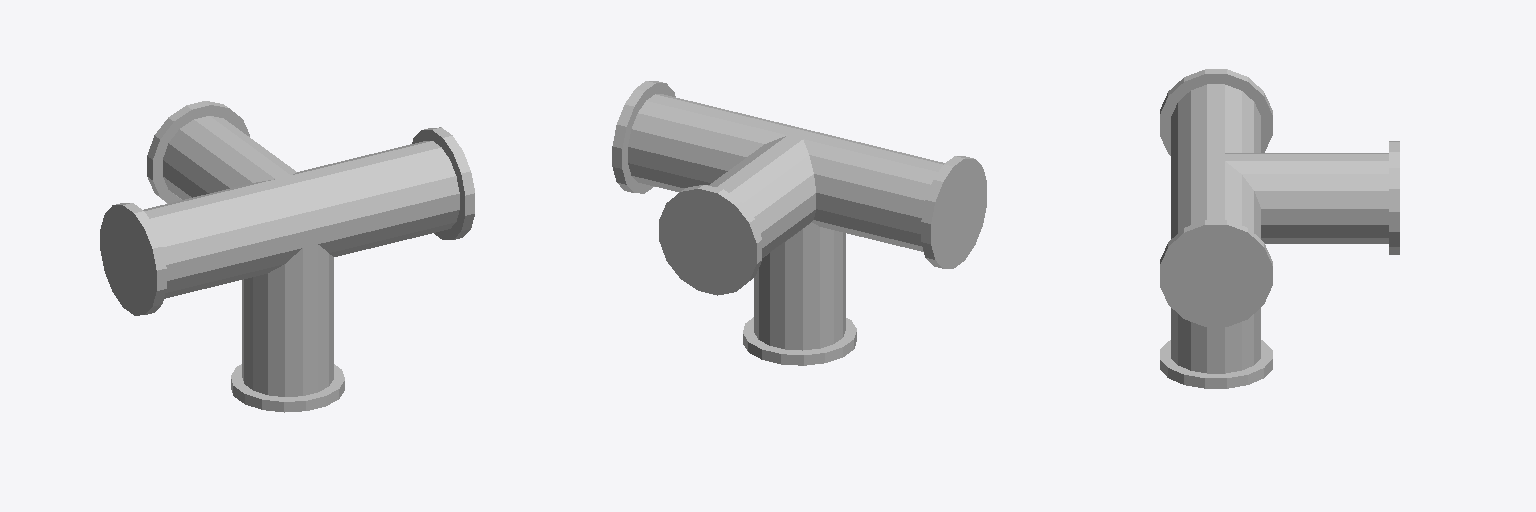
Rendered from pipeworks_pipe_7.obj.
3 views of the same model, side by side, from view 1: azimuth 30°, elevation 25°; view 2: azimuth 150°, elevation 25°; view 3: azimuth 270°, elevation 25° (orthographic).
Parts seen in each view (by area): view 1: Cube.000; view 2: Cube.000; view 3: Cube.000.
Part boxes in pixels (x1,y1,x2,y2): Cube.000: (100, 101, 474, 412); Cube.000: (612, 81, 986, 365); Cube.000: (1160, 69, 1399, 388).
Size of the model in its own units: 1 by 0.6532 by 0.6532.